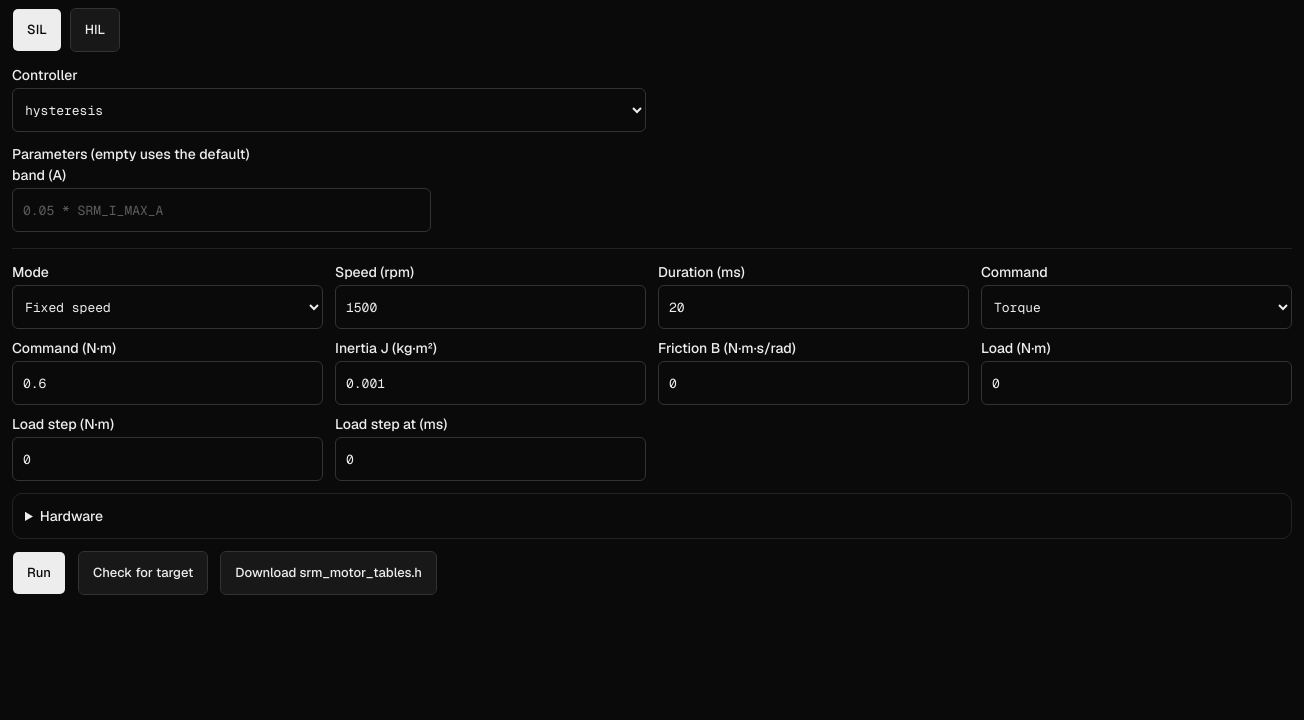
Test case: ControlTab › shows the folder input when Custom folder is chosen
The width and height of the screenshot is (1304, 720).
expect the field with id "ctl-p-band" is shown: met, box top-left (12, 188), bottom-right (431, 232)
Select "Custom folder…" in the dropdown with id "ctl-controller": (329, 110) top-left (12, 88), bottom-right (646, 132)
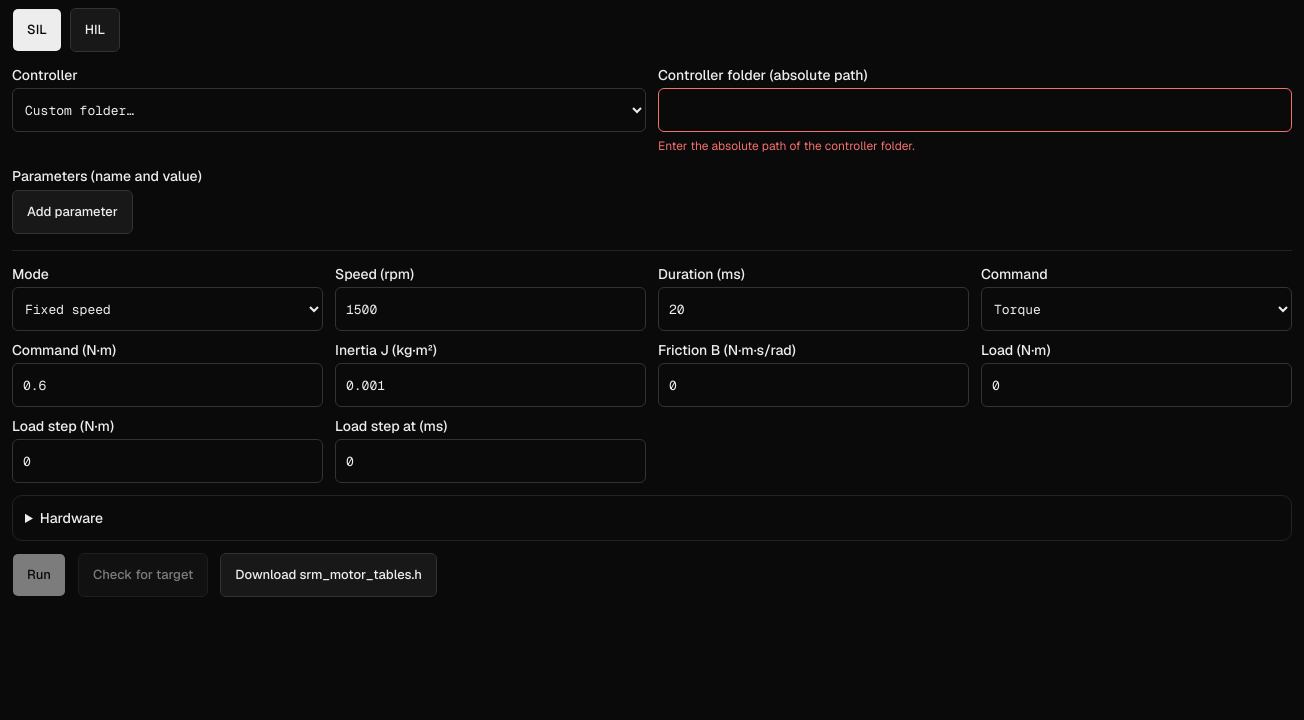
expect the field with id "ctl-folder" is shown: met, box top-left (658, 88), bottom-right (1292, 132)
expect the button "Run" is disabled: met, box top-left (12, 553), bottom-right (66, 597)
